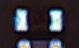COMP: (11, 5, 67, 35)
GAP: (16, 22, 63, 48)
